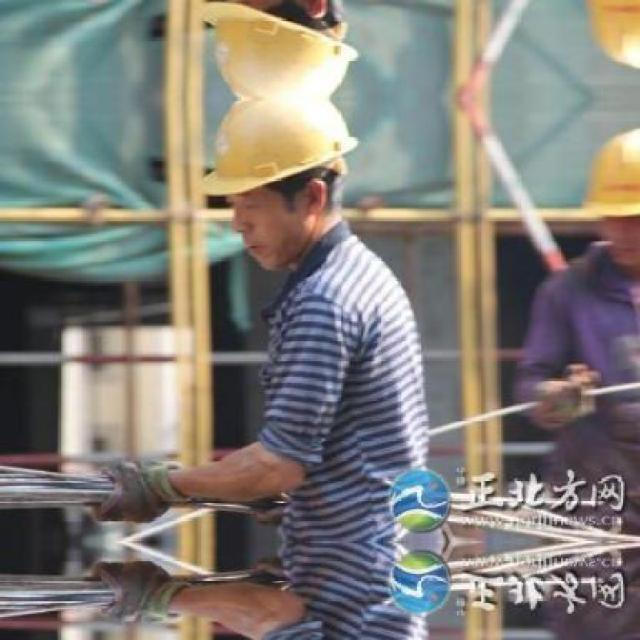helmet: (196, 98, 364, 268), (196, 0, 364, 97), (587, 119, 638, 272), (586, 0, 638, 75)
